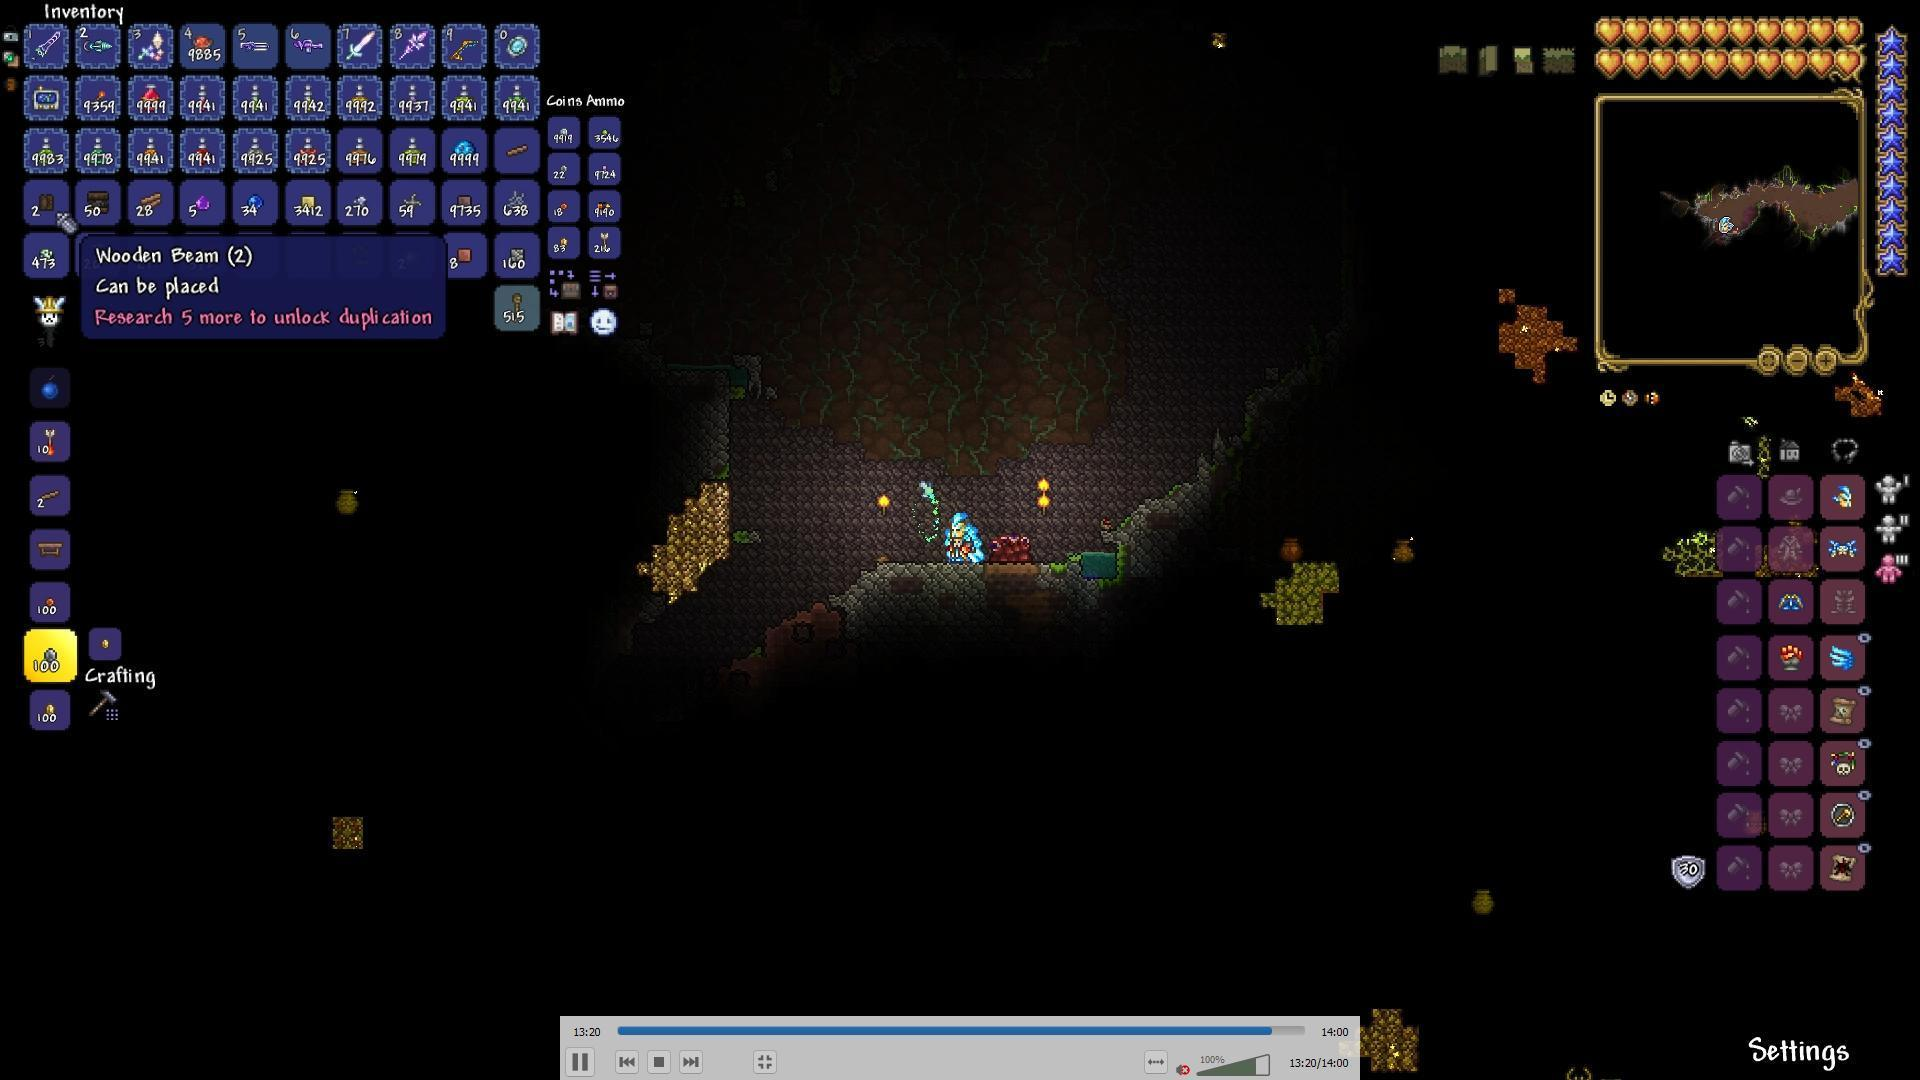altar: (986, 530, 1040, 570)
pot: (1276, 530, 1304, 568), (1472, 880, 1501, 915), (334, 483, 363, 517), (1387, 531, 1414, 564)
